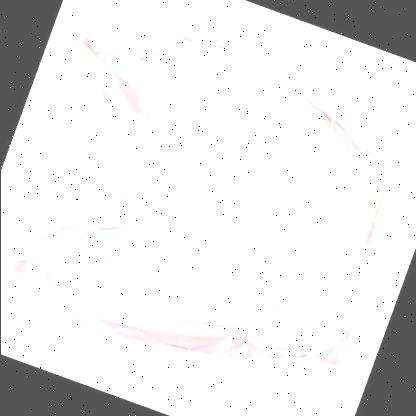Others: (0, 36, 414, 368)
